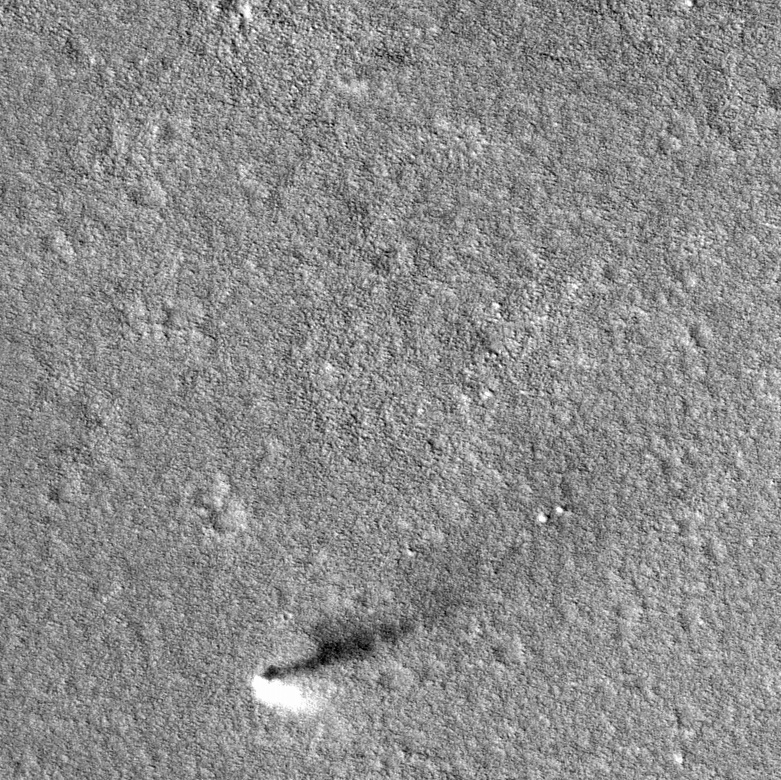dust_devil: (249, 584, 477, 717)
